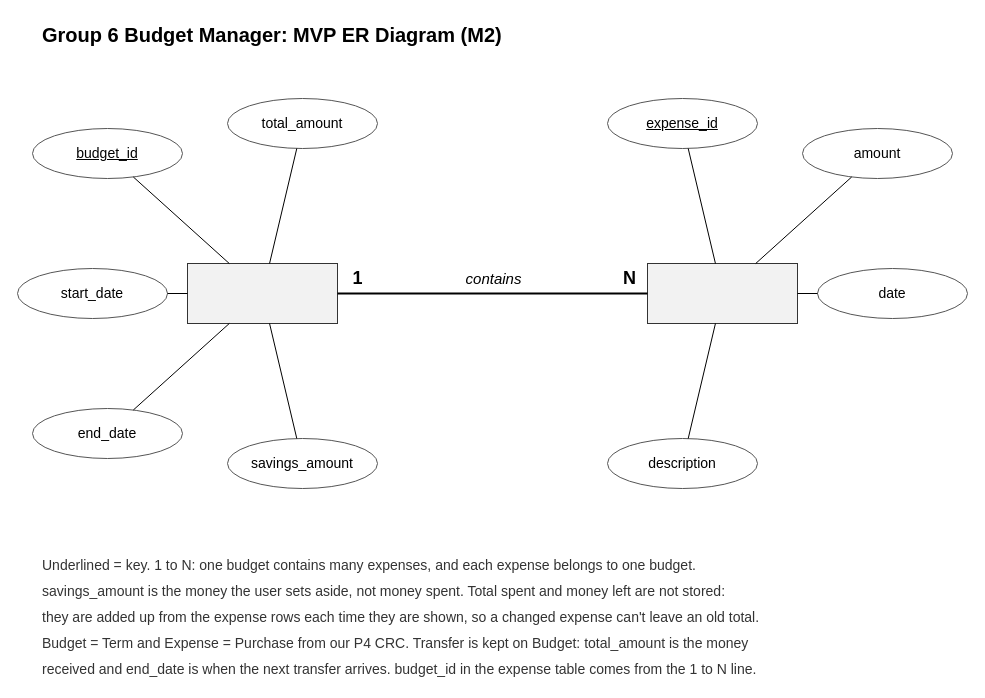
Some shapes in this 985 by 698 pixel diagram are drawn without their labels. The shapes that lost their labels are listed below. From the top down, each one's centre as x and y in pixels, then its label:
the point at 262,293: Budget
the point at 722,293: Expense
